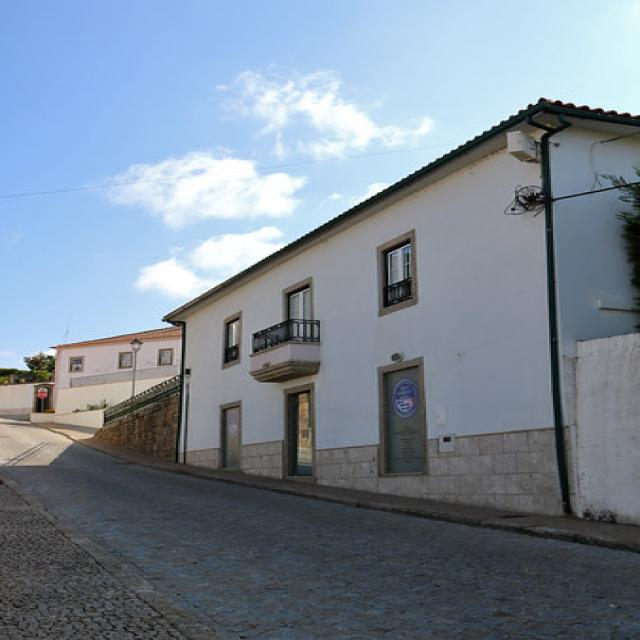Normal_building: (161, 92, 640, 534)
